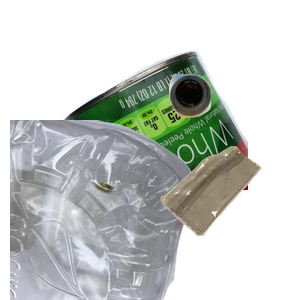glass: (166, 71, 300, 181)
metal: (60, 48, 300, 228)
plastic: (10, 120, 197, 300)
trash: (158, 144, 300, 300)
